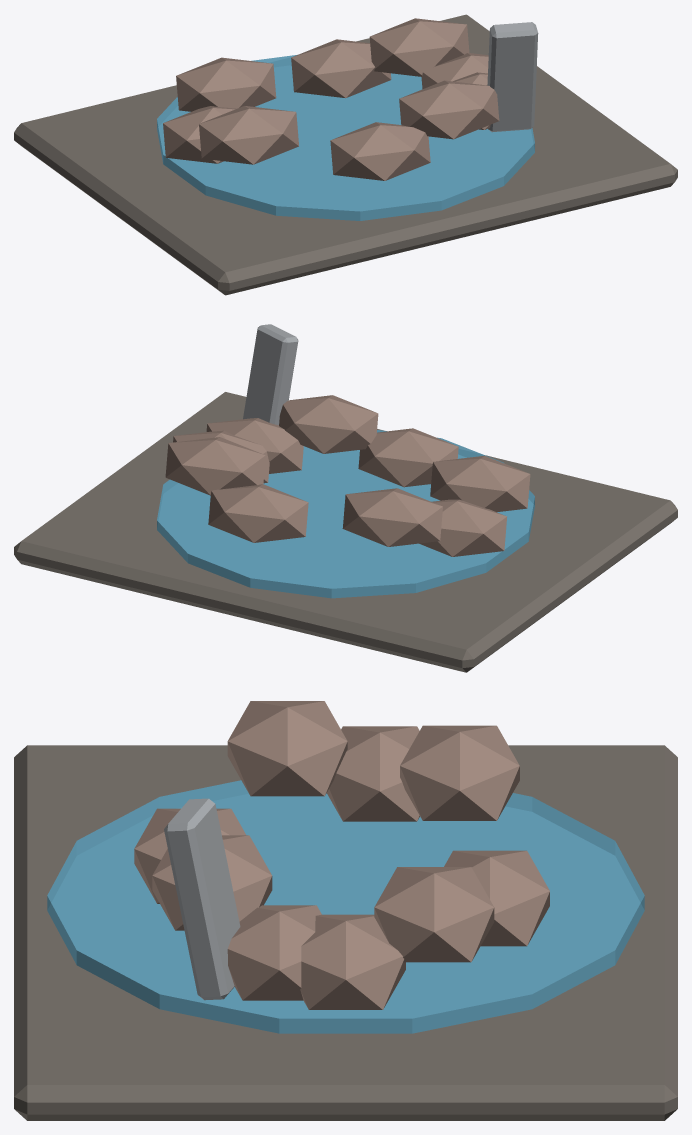
Rendered from briarfen_clay_bank.glb.
3 renders of one model, top to bottom at view 1: azimuth 30°, elevation 25°; view 2: azimuth 150°, elevation 25°; view 3: azimuth 270°, elevation 25°, orthographic. The views are drawn at different scales.
Bounding box in the file's own units: 2.5 × 0.7706 × 2.
